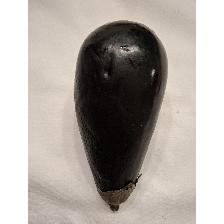Aubergine: (71, 18, 173, 214)
